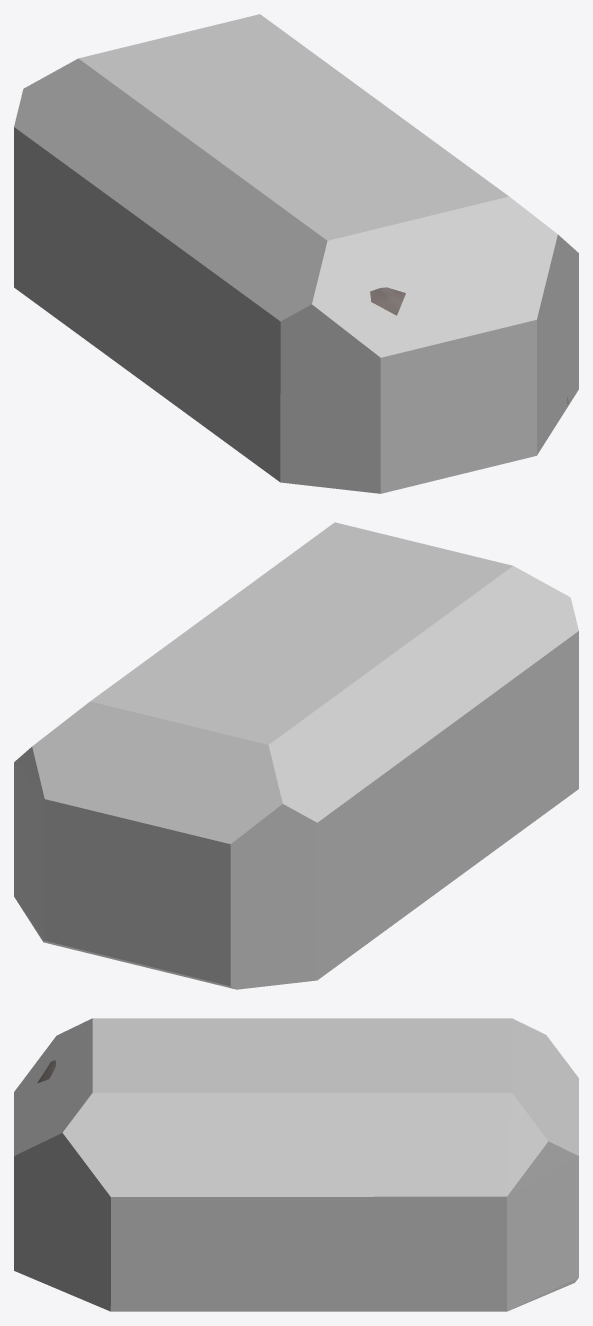
File: SM_Cobble_B.fbx
The picture shows the model from 3 angles, top to bottom: view 1: azimuth 30°, elevation 25°; view 2: azimuth 150°, elevation 25°; view 3: azimuth 270°, elevation 25°; orthographic projection. The views are drawn at different scales.
Parts seen in each view (by area): view 1: SM_Cobble_B_ConvexHulls, SM_Cobble_B; view 2: SM_Cobble_B_ConvexHulls; view 3: SM_Cobble_B_ConvexHulls.
Boxes of the visible parts, x1,y1,x2,y2 form: SM_Cobble_B_ConvexHulls: (14,14,578,493); SM_Cobble_B: (370,287,568,403); SM_Cobble_B_ConvexHulls: (14,522,578,989); SM_Cobble_B_ConvexHulls: (14,1018,578,1311).
Size of the model in its own units: 36.07 by 65.63 by 23.8.
